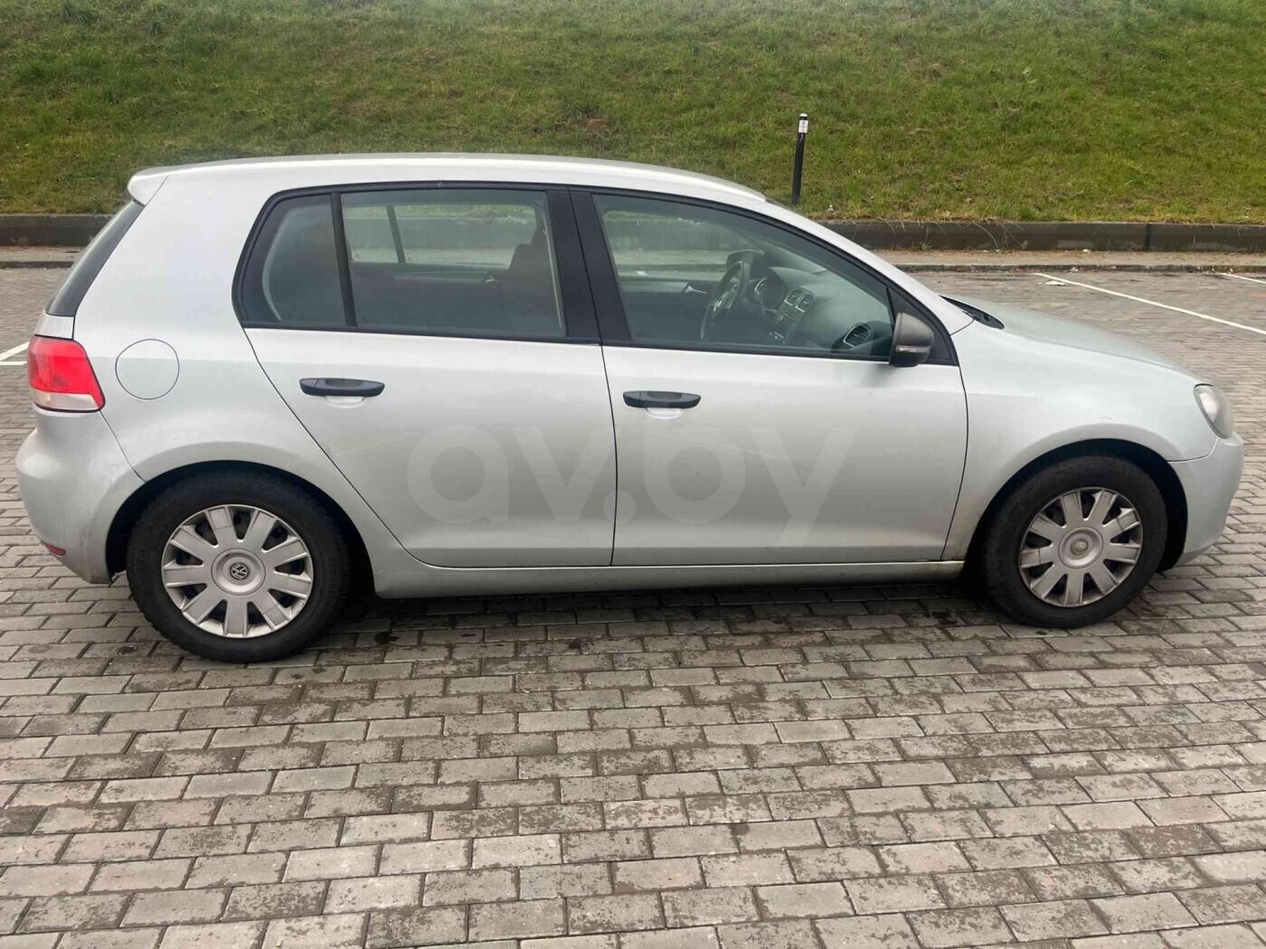Golf_2008-2013: (16, 141, 1249, 663)
